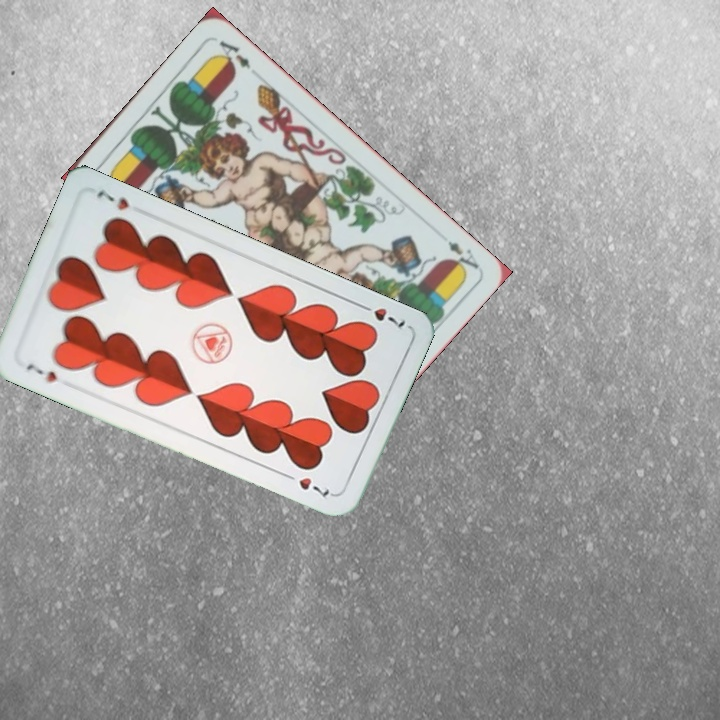EA: (444, 236, 482, 275)
H7: (354, 299, 408, 330), (22, 360, 62, 388)
